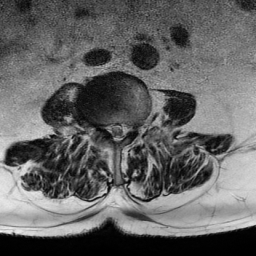CCS_normal: (114, 116, 121, 149)
LFS_stenosis: (128, 115, 136, 138)
LLS_normal: (121, 116, 128, 142)
RFS_severe_stenosis: (98, 114, 106, 137)
RLS_normal: (106, 114, 114, 144)
